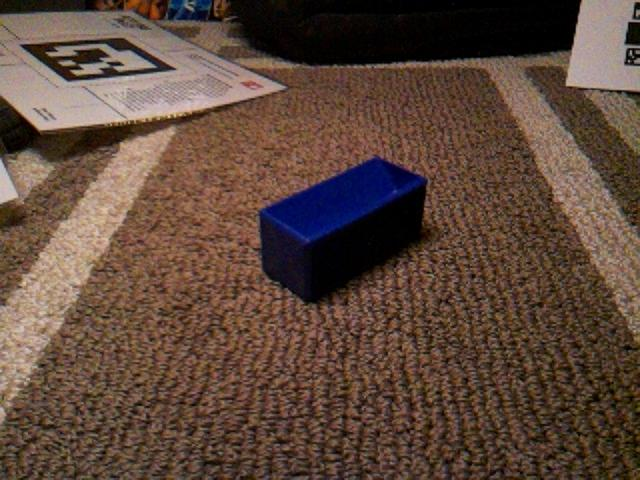blue: (257, 154, 429, 304)
